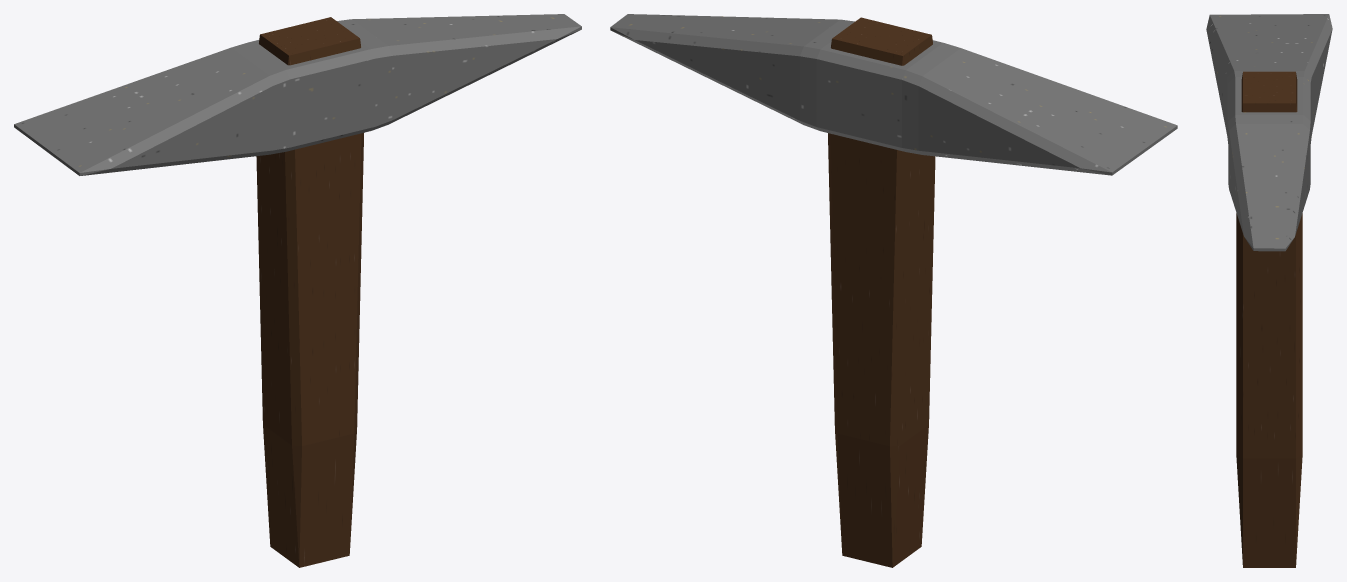
Rendered from pickaxe.fbx.
3 views of the same model, side by side, from view 1: azimuth 30°, elevation 25°; view 2: azimuth 150°, elevation 25°; view 3: azimuth 270°, elevation 25° (orthographic). The views are drawn at different scales.
Visible parts, largest first — view 1: Cube.001, Cube; view 2: Cube.001, Cube; view 3: Cube, Cube.001.
Boxes of the visible parts, x1=… form: Cube.001: x1=14, y1=14, x2=581, y2=175; Cube: x1=256, y1=17, x2=363, y2=567; Cube.001: x1=610, y1=14, x2=1177, y2=175; Cube: x1=828, y1=17, x2=935, y2=567; Cube: x1=1236, y1=71, x2=1302, y2=567; Cube.001: x1=1206, y1=14, x2=1332, y2=251.
Size of the model in its own units: 1670 by 1561 by 381.
